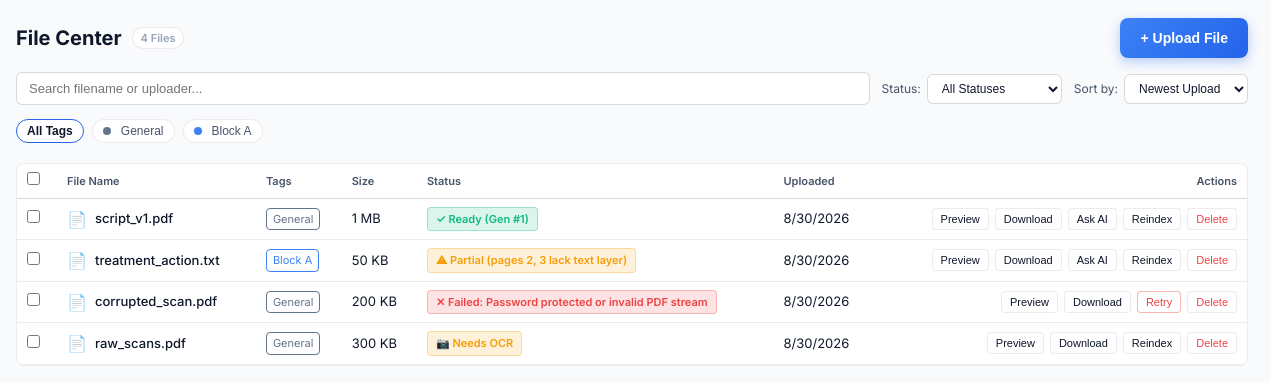
Test: FileCenter & Runs Components (Contract Aligned) › filters files by ingestion status dropdown
This screenshot has width=1271, height=383.
# Filter to 'failed'
Select "Failed" in the dropdown with id "status-filter-select" at (994, 88), box [927,74,1062,104]
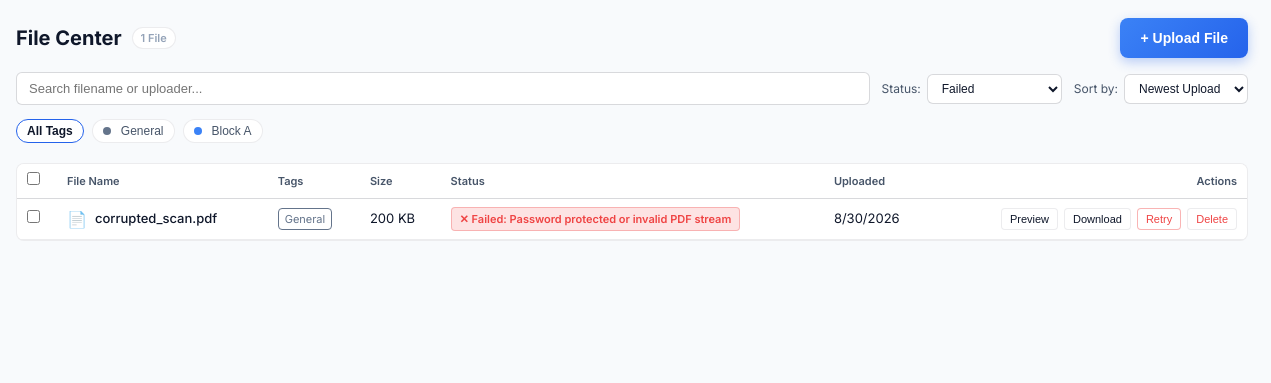
Expected: the text "corrupted_scan.pdf" is shown, [95,209,217,228]
Result: the text "script_v1.pdf" is gone
Result: the text "treatment_action.txt" is gone
